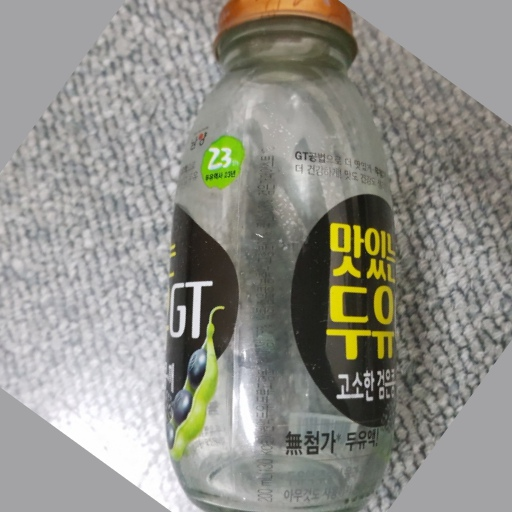Glass_4: (163, 1, 403, 512)
